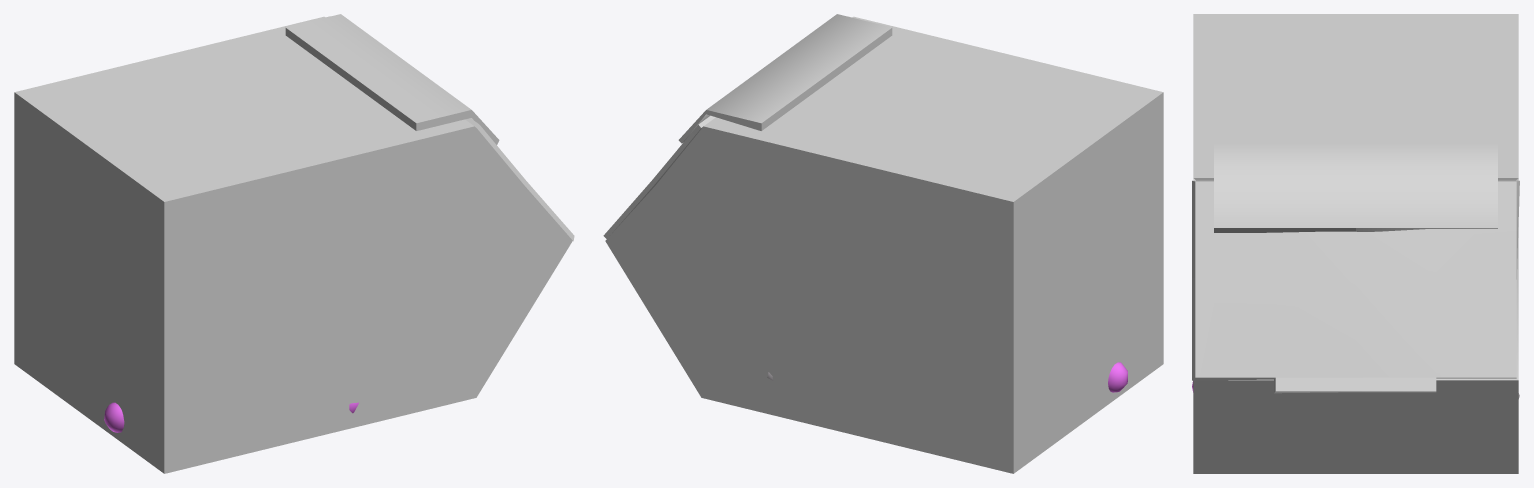
File: Item_GumBallsVar_1.fbx
The picture shows the model from 3 angles, left to right: view 1: azimuth 30°, elevation 25°; view 2: azimuth 150°, elevation 25°; view 3: azimuth 270°, elevation 25°; orthographic projection. The views are drawn at different scales.
Parts seen in each view (by area): view 1: Item_GumBallsVar_1; view 2: Item_GumBallsVar_1; view 3: Item_GumBallsVar_1.
Part boxes in pixels (left/top/right/bottom): Item_GumBallsVar_1: left=14, top=14, right=574, bottom=473; Item_GumBallsVar_1: left=603, top=14, right=1163, bottom=473; Item_GumBallsVar_1: left=1192, top=14, right=1519, bottom=473.
Bounding box in the file's own units: 73.46 × 46.76 × 44.9.
Materials: 2 (1 with a texture image).
